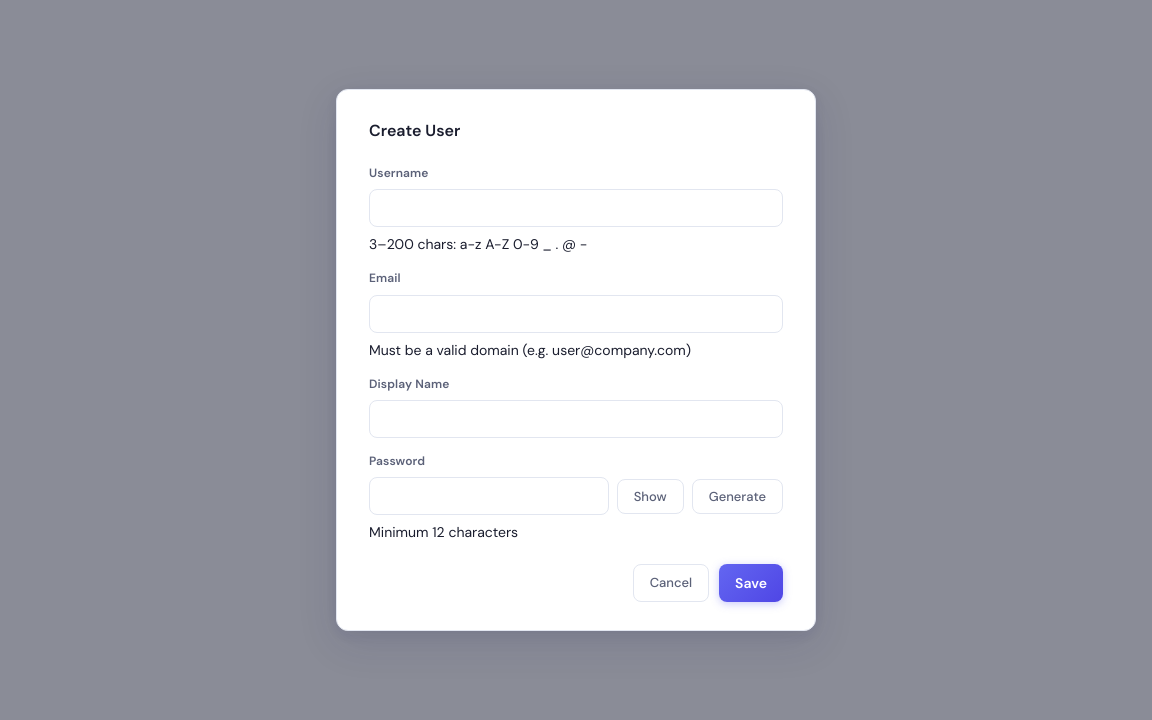
Scenario: UserFormModal › submit button disabled while isSubmitting
This screenshot has width=1152, height=720.
In the field below "Username": (576, 208) [369, 189, 783, 227], type "newuser"
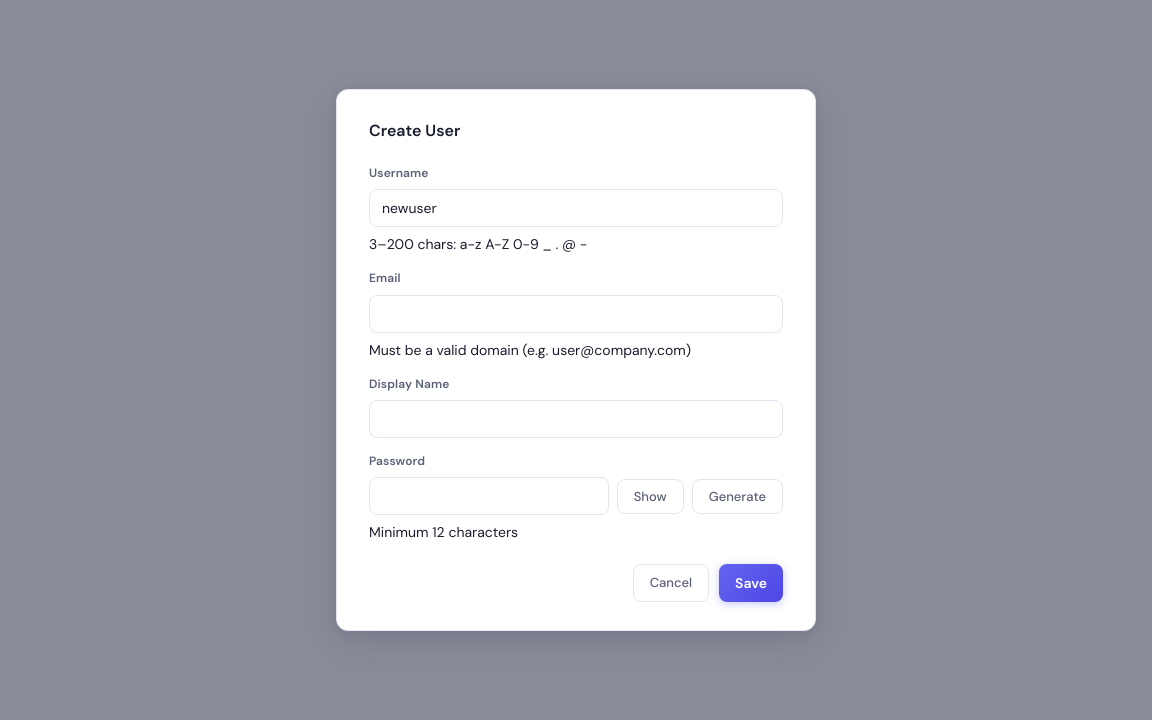
In the password field: (489, 496) [369, 477, 609, 515], type "Str0ngPassword!"
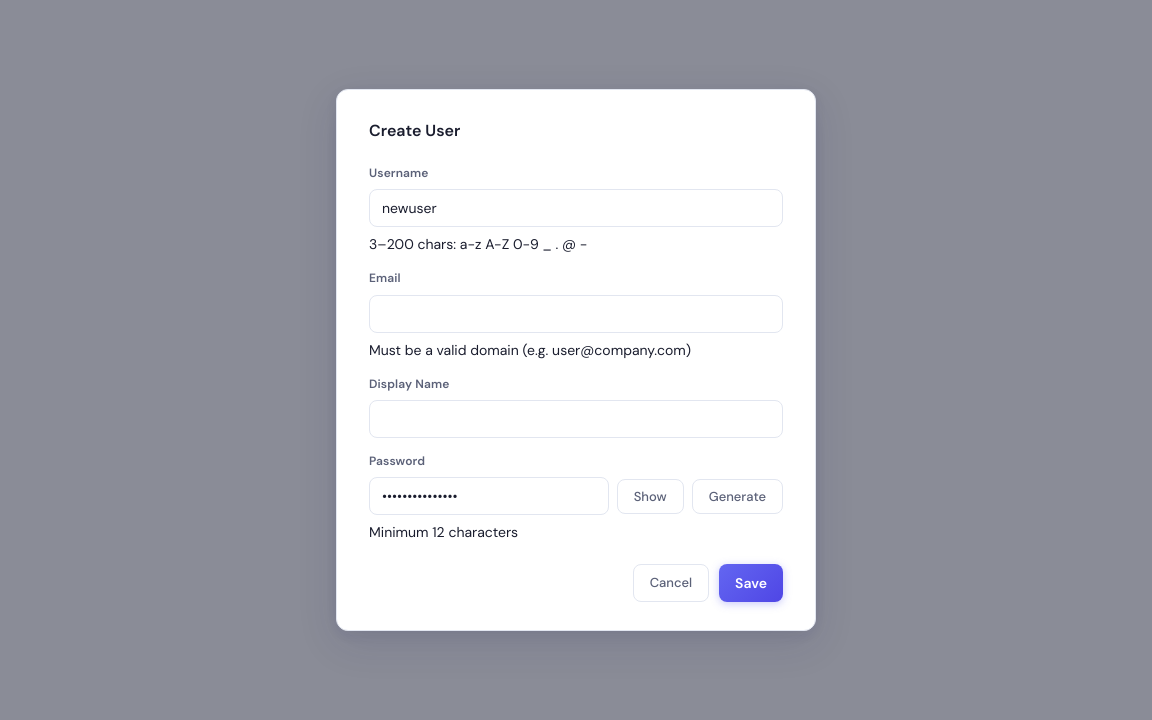
Check: the submit button is enabled, box [719, 564, 783, 602]
Submit the form, box [369, 164, 783, 602]
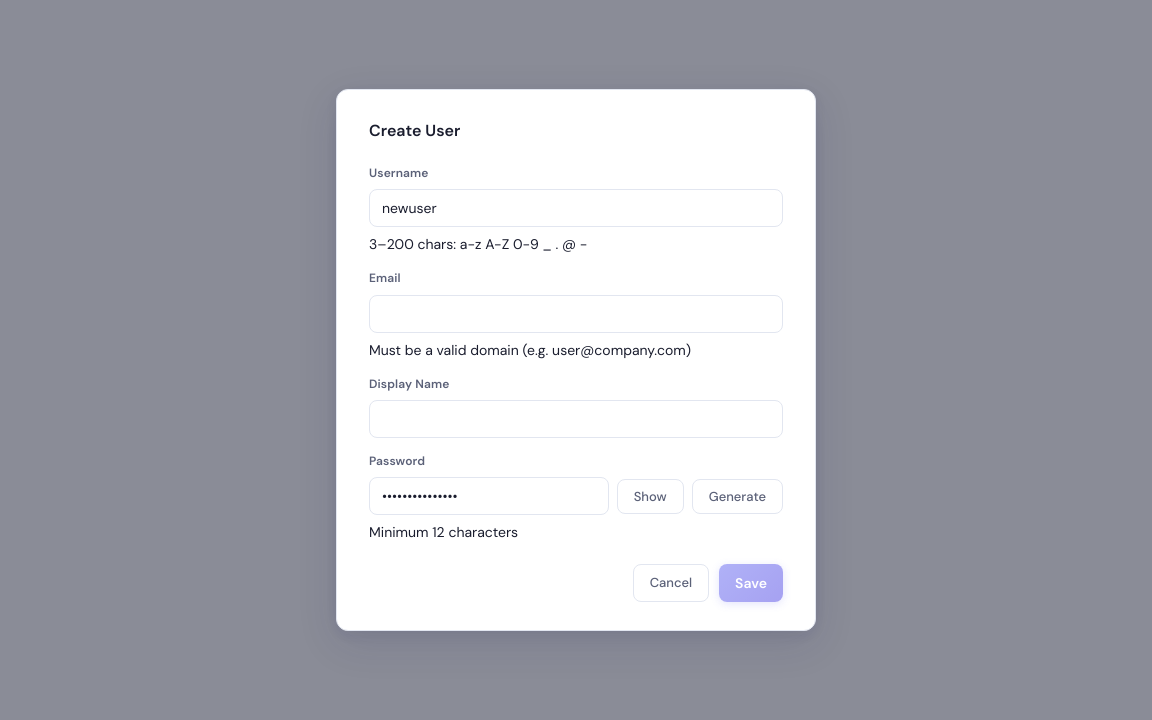
Check: the submit button is disabled, box [719, 564, 783, 602]
